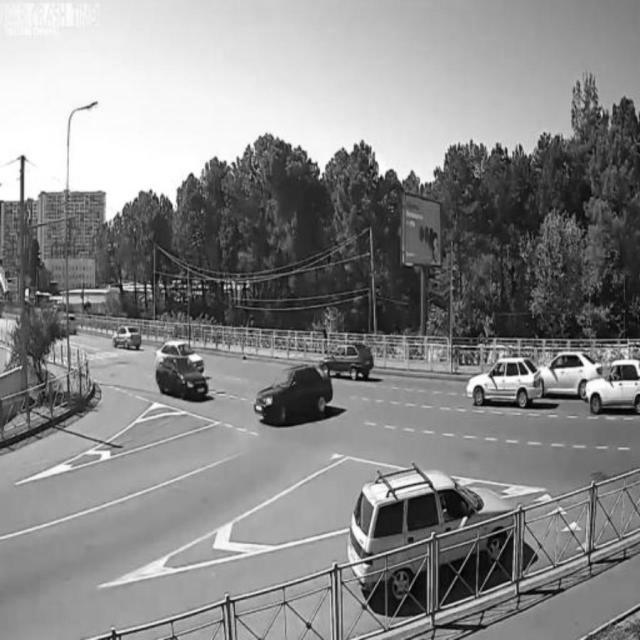vehicle: (347, 469, 513, 593), (256, 364, 334, 431), (467, 354, 544, 408), (155, 350, 209, 404), (542, 345, 597, 397), (588, 361, 640, 415), (317, 343, 374, 385), (109, 323, 145, 353)
